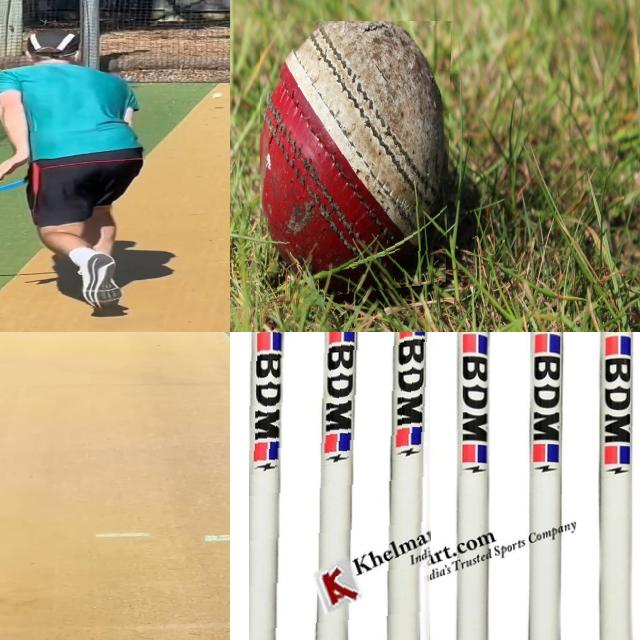Cricket ball: (260, 21, 452, 304), (210, 91, 224, 102)
Stumps: (249, 332, 439, 640), (450, 332, 637, 640)
